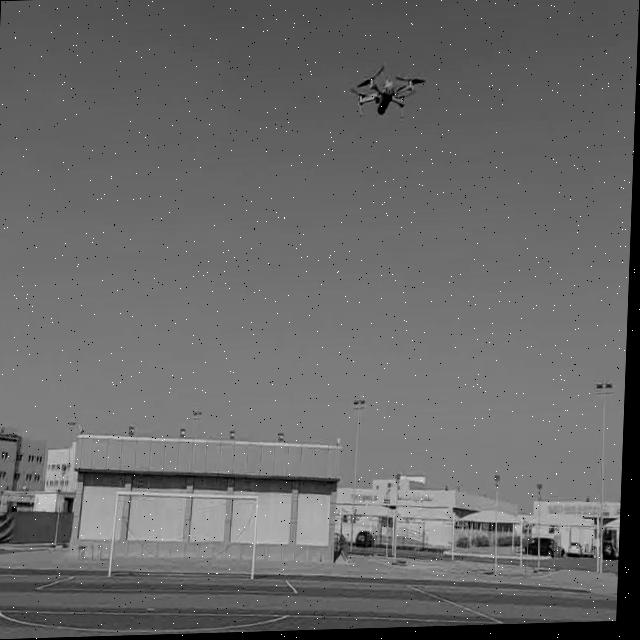drone: (346, 59, 432, 127)
